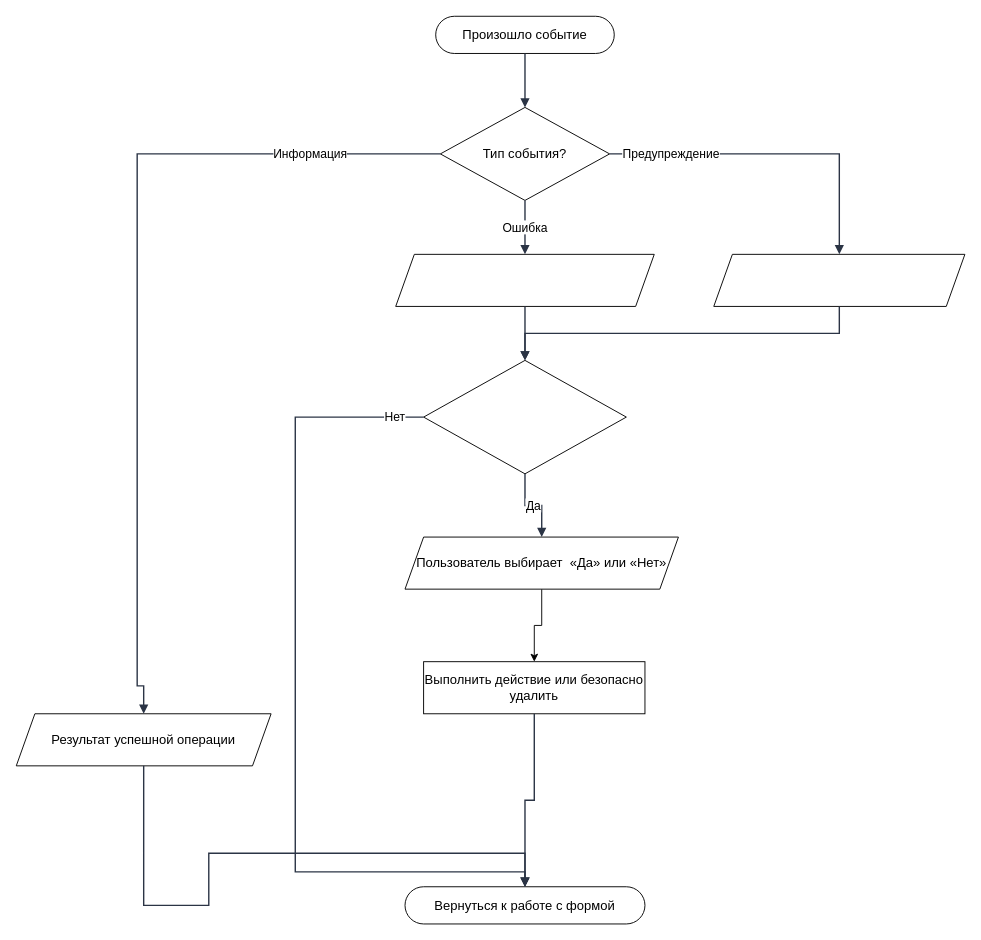
This 981x940 diagram has some shape labels left out. The box of each missing label's shape, as (x1, y1, x2, y2) in pixels:
Нужно подтверждение?: (423, 359, 626, 474)
Что произойдёт при действии: (713, 253, 965, 306)
Что случилось и как исправить: (395, 253, 654, 306)
